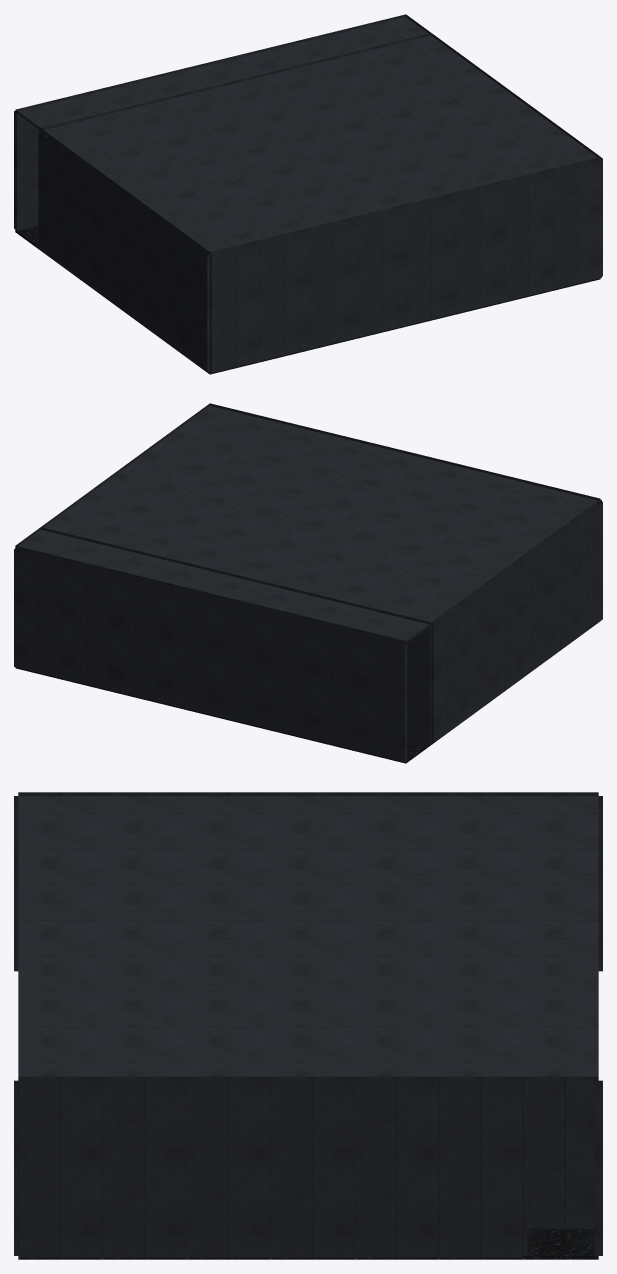
Rendered from ENV_Bank.glb.
3 renders of one model, top to bottom at view 1: azimuth 30°, elevation 25°; view 2: azimuth 150°, elevation 25°; view 3: azimuth 270°, elevation 25°, orthographic. The views are drawn at different scales.
Parts seen in each view (by area): view 1: ENV_Wall, ENV_Marble; view 2: ENV_Wall, ENV_Marble; view 3: ENV_Wall, ENV_Marble.
Part boxes in pixels (x1=…): ENV_Wall: x1=14, y1=14, x2=602, y2=372; ENV_Marble: x1=15, y1=225, x2=600, y2=374; ENV_Wall: x1=14, y1=403, x2=602, y2=761; ENV_Marble: x1=15, y1=621, x2=600, y2=763; ENV_Wall: x1=14, y1=792, x2=602, y2=1257; ENV_Marble: x1=18, y1=1228, x2=598, y2=1259.
Bounding box in the file's own units: 16.2 × 4.8 × 14.
Materials: 7 (4 with a texture image).
